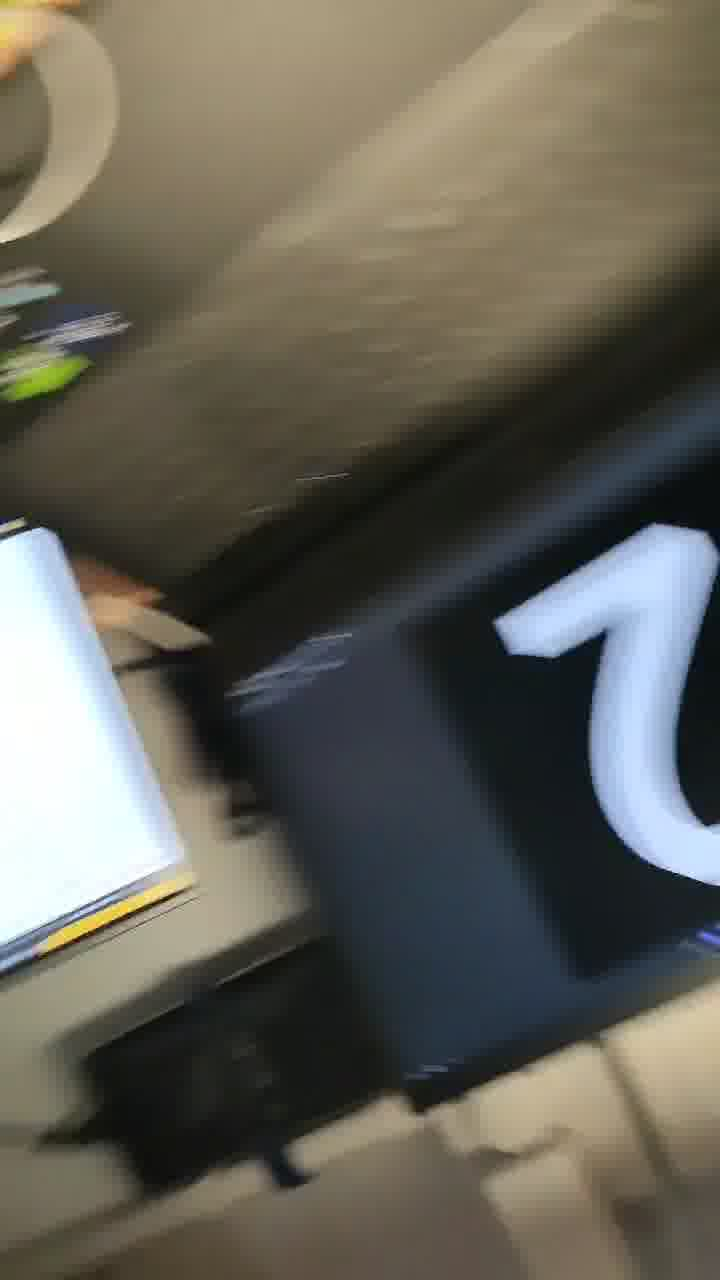two: (441, 492, 720, 975)
